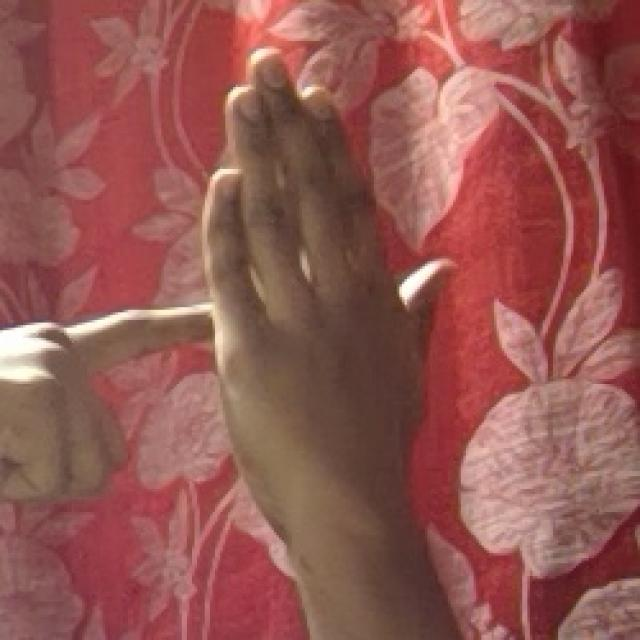Alphabet-R: (0, 39, 461, 553)
